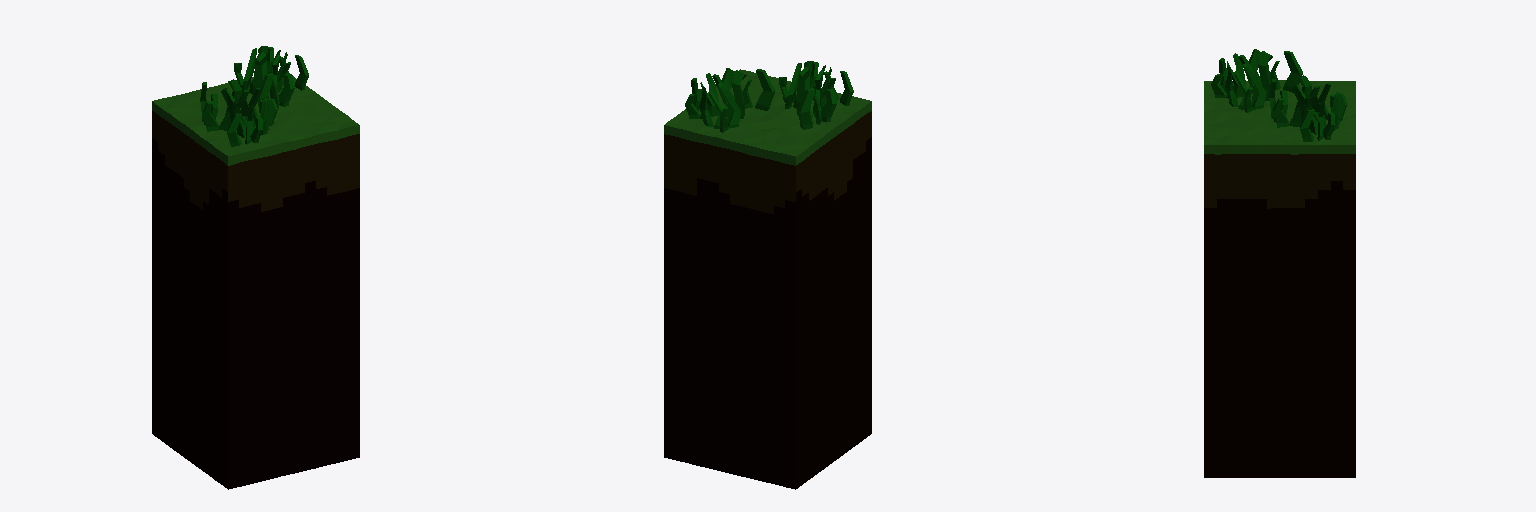
The model's file is grass3.obj.
The picture shows the model from 3 angles: view 1: azimuth 30°, elevation 25°; view 2: azimuth 150°, elevation 25°; view 3: azimuth 270°, elevation 25°; orthographic projection.
Parts seen in each view (by area): view 1: Cube.072, Cube.077, Cube.028; view 2: Cube.072, Cube.028, Cube.077; view 3: Cube.072, Cube.077, Cube.028.
Boxes of the visible parts, x1,y1,x2,y2 form: Cube.072: [152, 72, 359, 489]; Cube.077: [200, 79, 277, 146]; Cube.028: [234, 46, 308, 113]; Cube.072: [664, 69, 871, 489]; Cube.028: [685, 68, 775, 132]; Cube.077: [779, 61, 853, 129]; Cube.072: [1204, 80, 1355, 477]; Cube.077: [1211, 49, 1302, 112]; Cube.028: [1269, 75, 1347, 141].
Size of the model in its own units: 19.41 by 53.48 by 19.41.